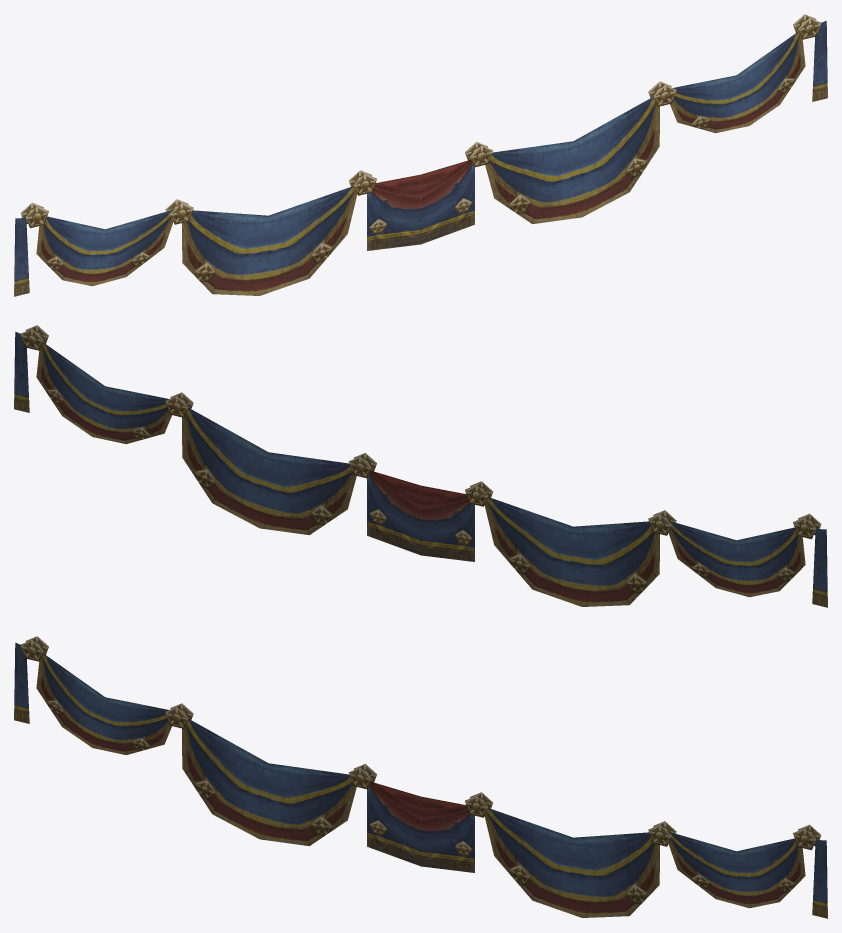
The model's file is SC_guowangchengbao_25.FBX.
3 views of the same model, one above another, from view 1: azimuth 30°, elevation 25°; view 2: azimuth 150°, elevation 25°; view 3: azimuth 330°, elevation 25° (orthographic).
Visible parts, largest first — view 1: SC_guowangchengbao_25; view 2: SC_guowangchengbao_25; view 3: SC_guowangchengbao_25.
Boxes of the visible parts, left/top/right/bottom form: SC_guowangchengbao_25: left=14, top=14, right=827, bottom=296; SC_guowangchengbao_25: left=14, top=325, right=827, bottom=607; SC_guowangchengbao_25: left=14, top=636, right=827, bottom=918.
Bounding box in the file's own units: 1729 × 297 × 18.71.
